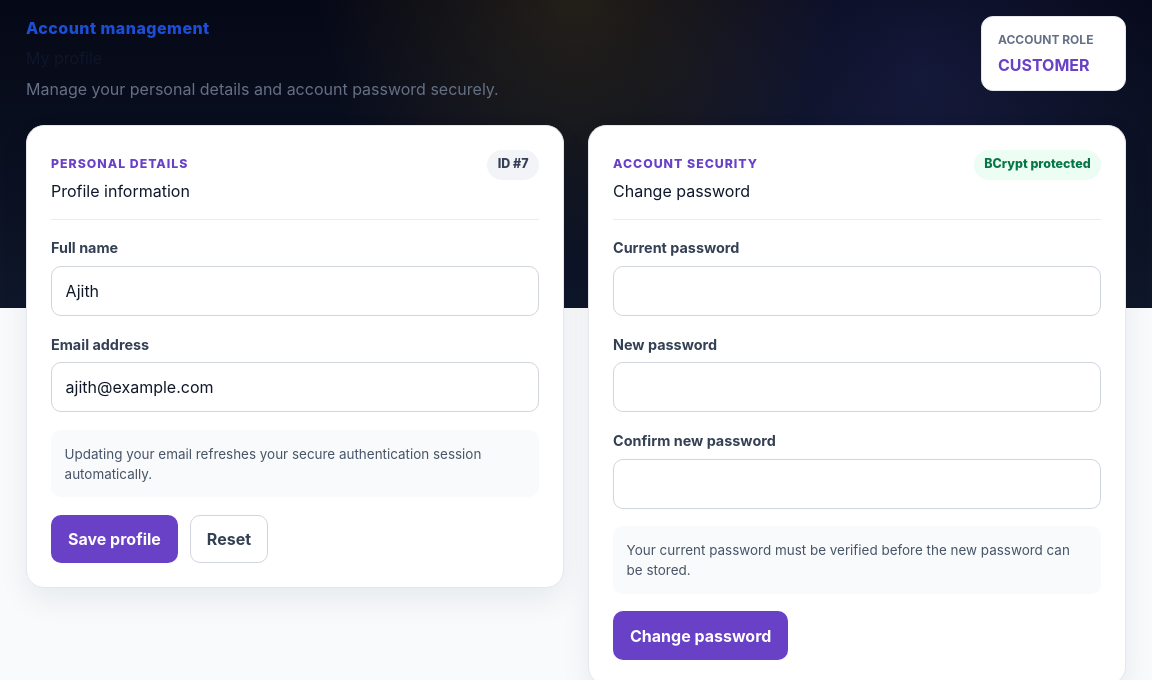
Test: ProfilePage › changes the password after validation
Check: the field showing "Ajith" is shown, box [51,266,539,316]
Type "CurrentPass123" into the password field labelled "Current password" at point(857, 291), box [613,266,1101,316]
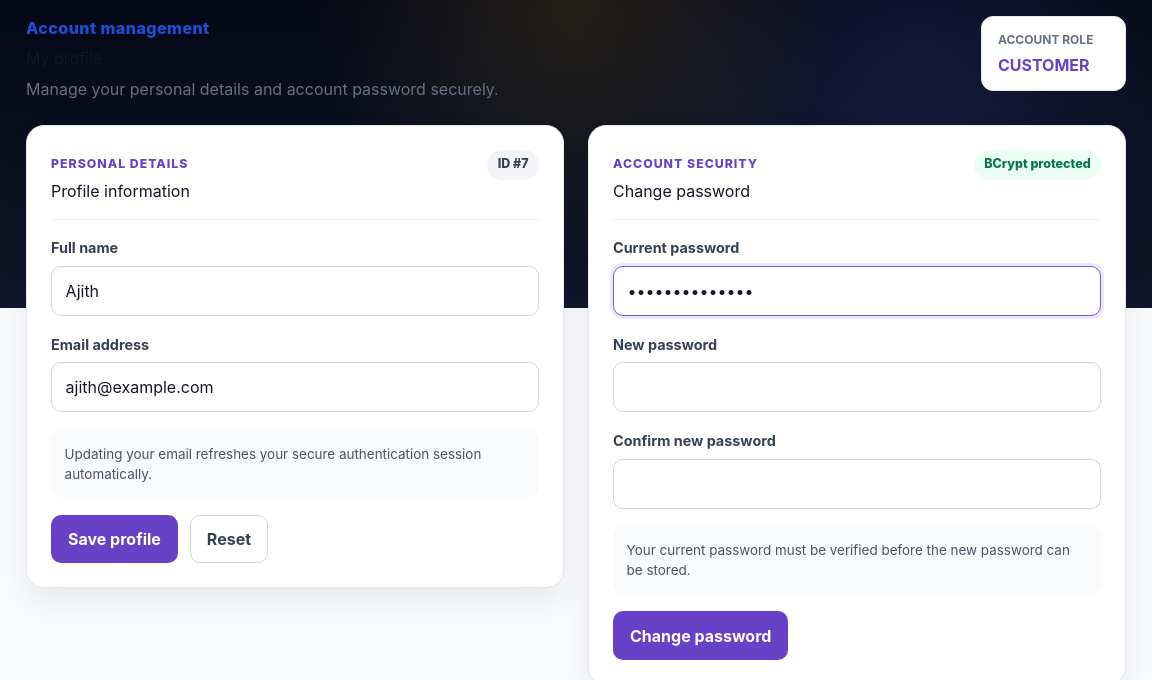
Type "NewSecurePass123" into the password field labelled "New password" at point(857, 387), box [613,362,1101,412]
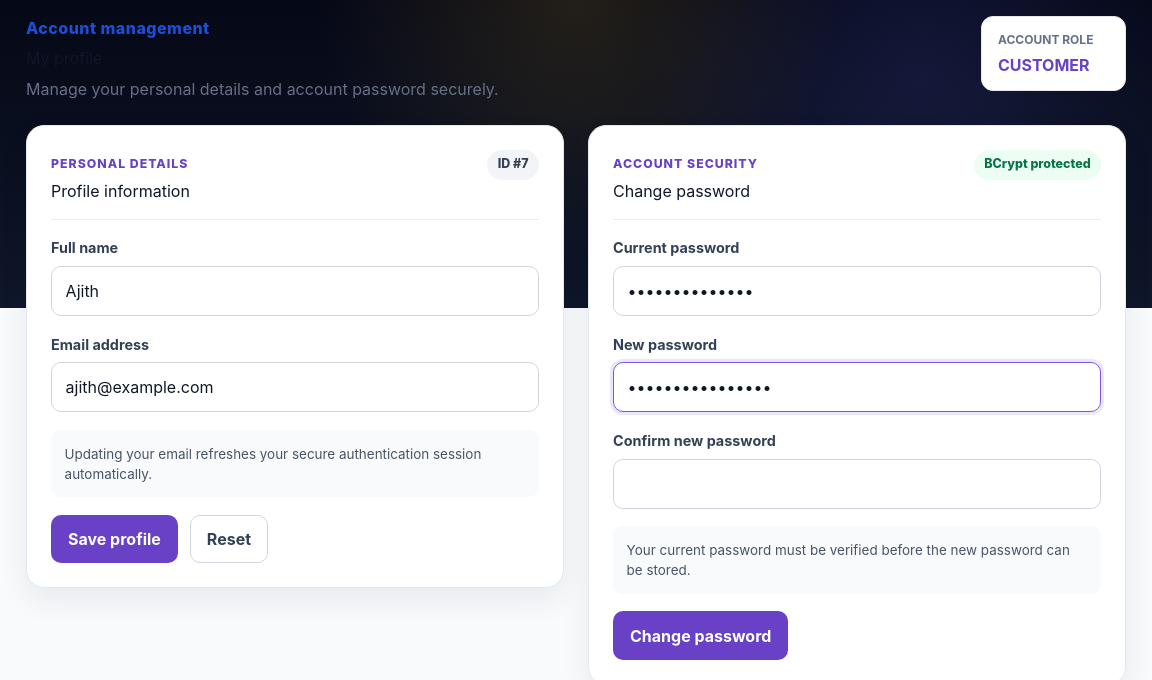
Type "NewSecurePass123" into the password field labelled "Confirm new password" at point(857, 484), box [613,459,1101,509]
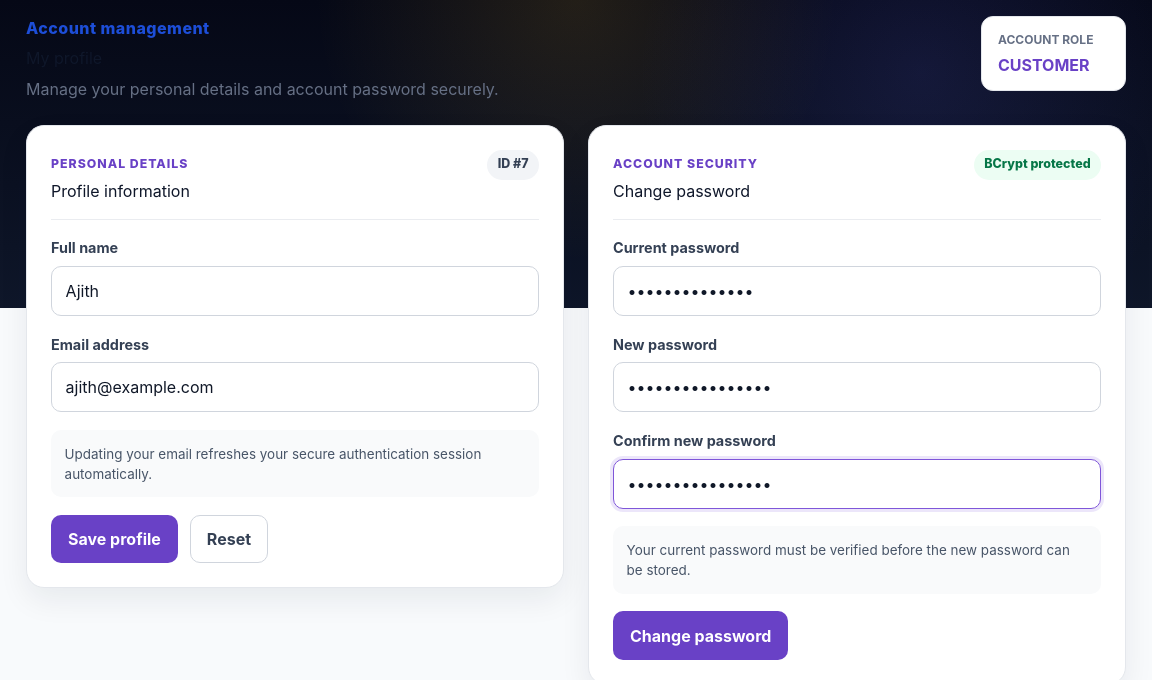
Click the button "Change password" at point(701, 636), box [613,611,788,660]
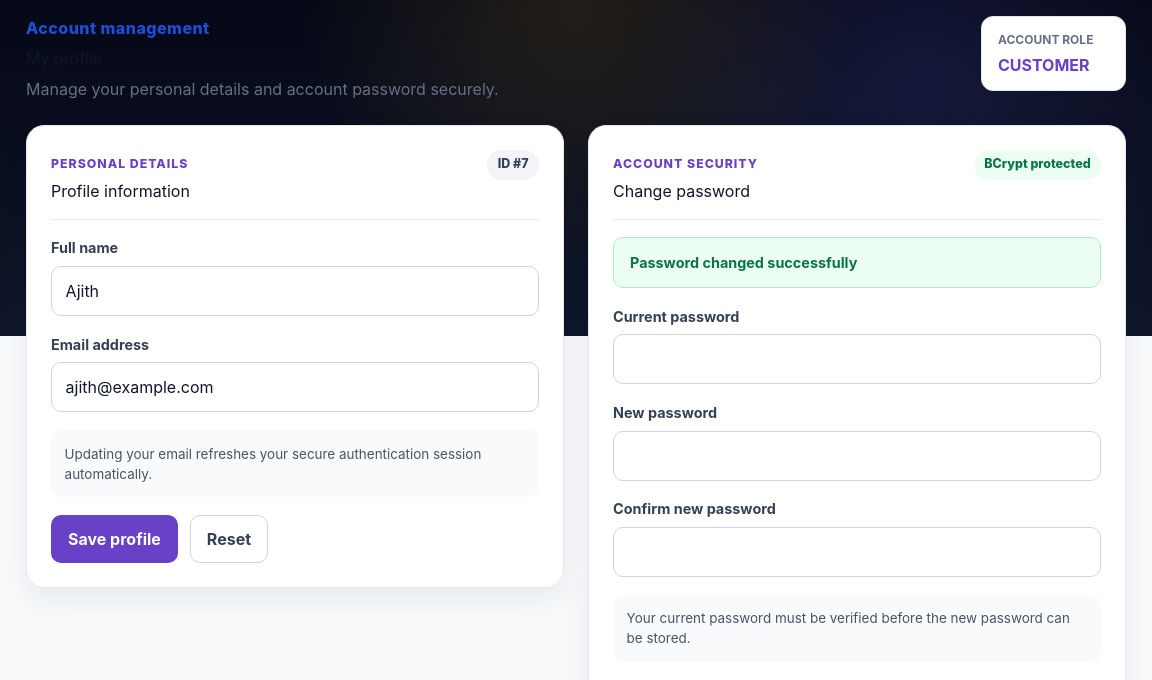
Check: the text "Password changed successfully" is shown, box [613,237,1101,288]
Check: the password field labelled "Current password" is empty, box [613,334,1101,384]
Check: the password field labelled "New password" is empty, box [613,431,1101,481]
